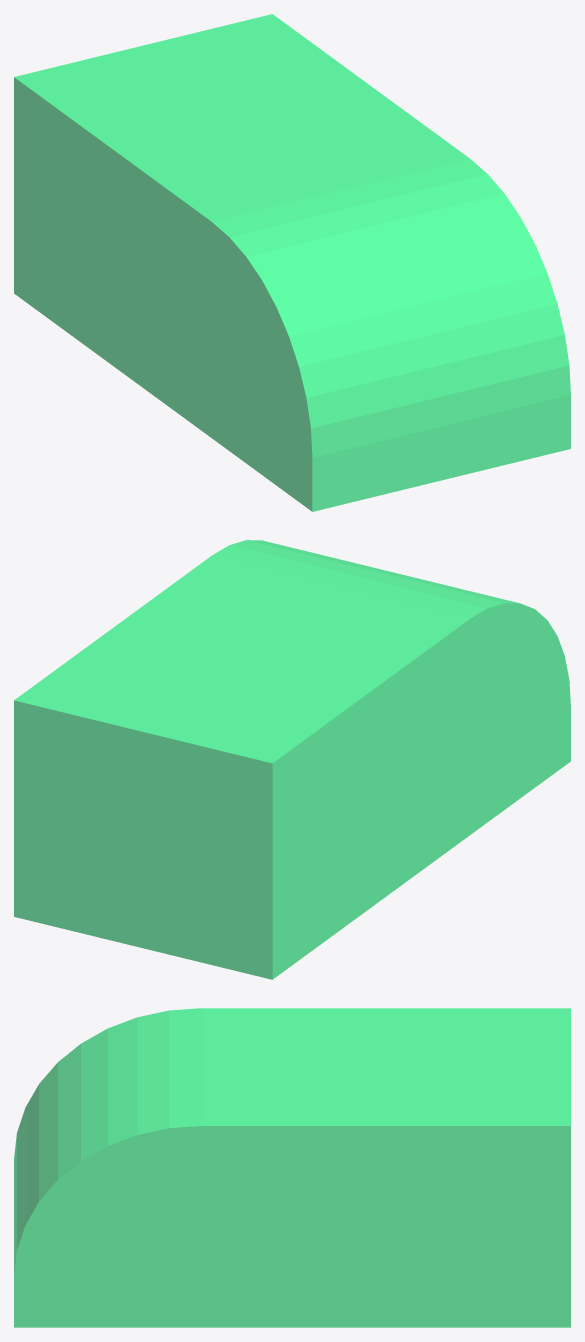
3 views of the same model, one above another, from view 1: azimuth 30°, elevation 25°; view 2: azimuth 150°, elevation 25°; view 3: azimuth 270°, elevation 25° (orthographic). The views are drawn at different scales.
Parts seen in each view (by area): view 1: Cube; view 2: Cube; view 3: Cube.
Part boxes in pixels (x1=…): Cube: x1=14, y1=14, x2=570, y2=511; Cube: x1=14, y1=540, x2=570, y2=979; Cube: x1=14, y1=1008, x2=570, y2=1327.
Size of the model in its own units: 2 by 1.6 by 4.
